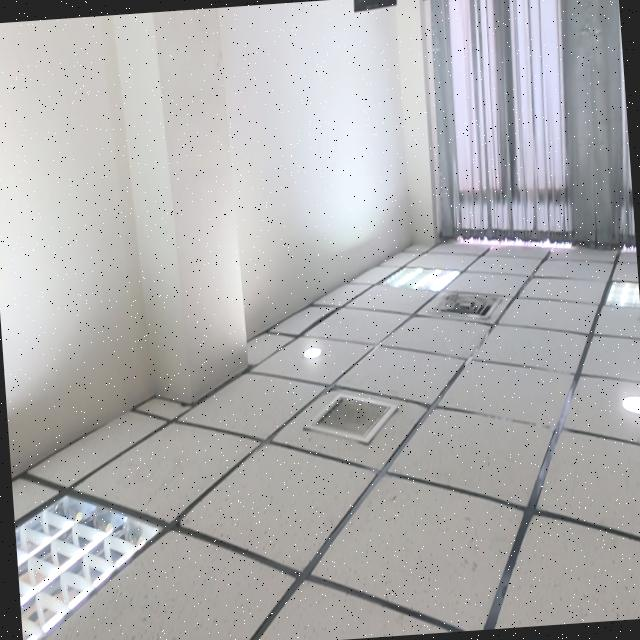Light: (14, 494, 157, 640), (381, 266, 459, 291), (604, 279, 640, 307), (620, 394, 640, 413), (302, 345, 320, 357)
Monitor: (352, 0, 395, 11)
